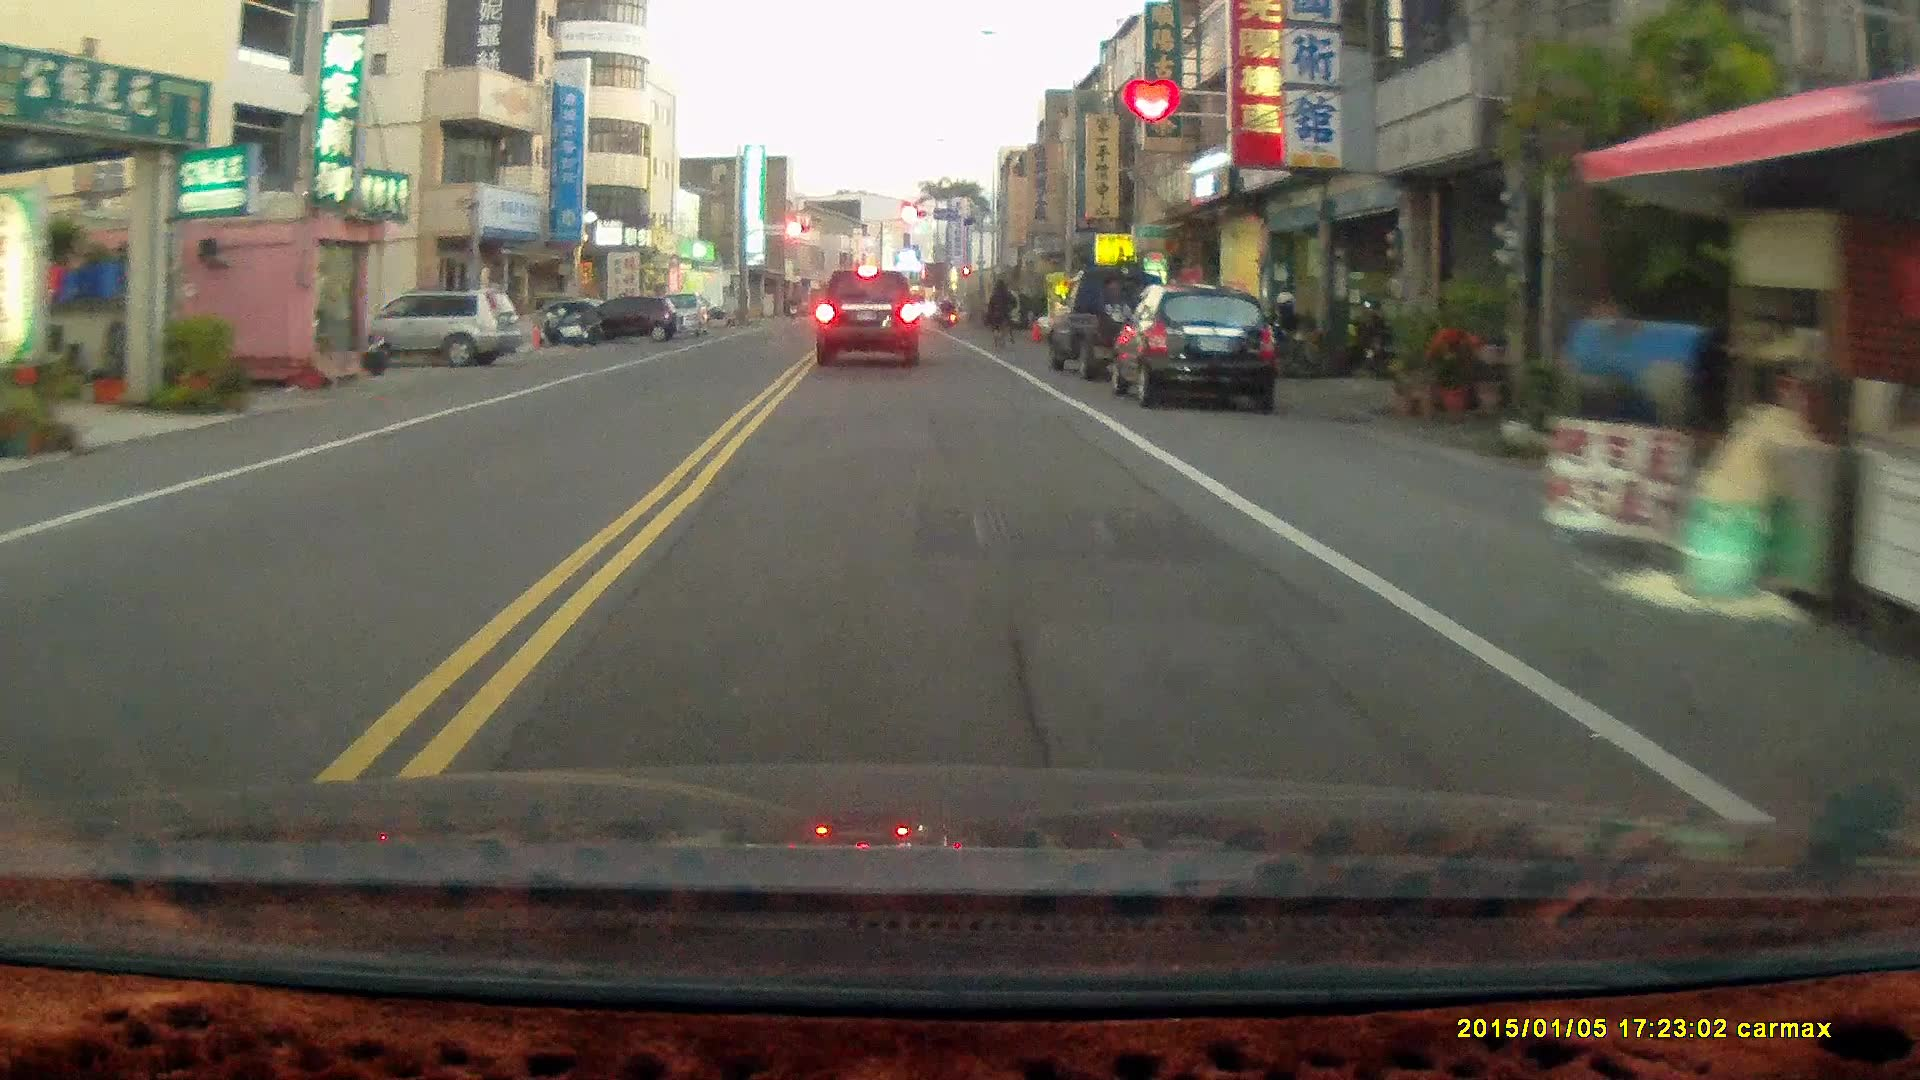rider: (985, 276, 1017, 349)
vehicle: (1118, 281, 1288, 407), (1046, 262, 1200, 381), (328, 292, 522, 371), (815, 263, 923, 366), (557, 294, 681, 343)
